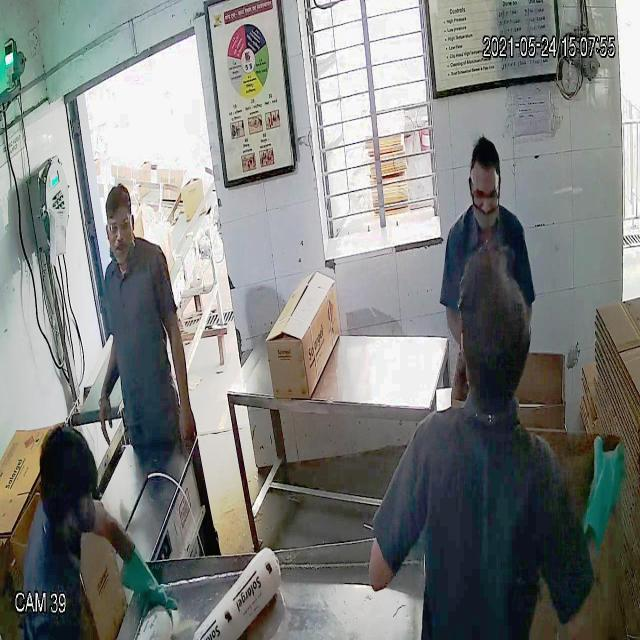glasses: (468, 174, 502, 211), (102, 214, 135, 238)
